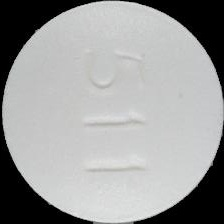21695-855: (0, 0, 224, 224)
